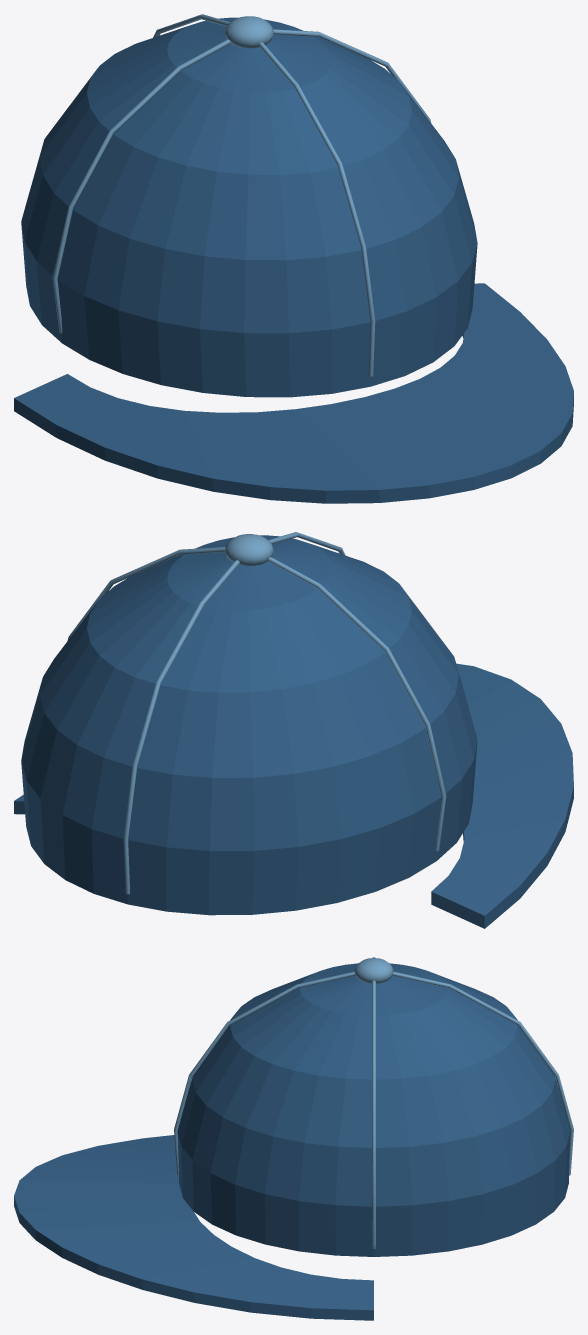
Rendered from hat_baseball_cap.glb.
3 views of the same model, one above another, from view 1: azimuth 30°, elevation 25°; view 2: azimuth 150°, elevation 25°; view 3: azimuth 270°, elevation 25° (orthographic). The views are drawn at different scales.
Parts seen in each view (by area): view 1: Cap_Open_Crown, Cap_Curved_Visor, Cap_Panel_Seam.002, Cap_Panel_Seam.003, Cap_Top_Button, Cap_Panel_Seam; view 2: Cap_Open_Crown, Cap_Curved_Visor, Cap_Panel_Seam.002, Cap_Panel_Seam.001, Cap_Top_Button, Cap_Panel_Seam; view 3: Cap_Open_Crown, Cap_Curved_Visor, Cap_Panel_Seam.003, Cap_Panel_Seam.001, Cap_Panel_Seam, Cap_Top_Button.
Boxes of the visible parts, x1,y1,x2,y2 form: Cap_Open_Crown: (21,17,477,397); Cap_Curved_Visor: (14,283,573,503); Cap_Panel_Seam.002: (52,39,230,333); Cap_Panel_Seam.003: (258,42,375,376); Cap_Top_Button: (225,16,273,48); Cap_Panel_Seam: (273,29,430,122); Cap_Open_Crown: (21,535,477,915); Cap_Curved_Visor: (14,663,573,928); Cap_Panel_Seam.002: (268,557,446,851); Cap_Panel_Seam.001: (123,560,239,894); Cap_Top_Button: (225,534,273,566); Cap_Panel_Seam: (67,547,225,640); Cap_Open_Crown: (177,963,570,1256); Cap_Curved_Visor: (14,1135,373,1320); Cap_Panel_Seam.003: (174,971,355,1175); Cap_Panel_Seam.001: (392,971,573,1175); Cap_Panel_Seam: (372,980,375,1248); Cap_Top_Button: (354,958,393,983).
Size of the model in its own units: 0.264 by 0.179 by 0.3391.
